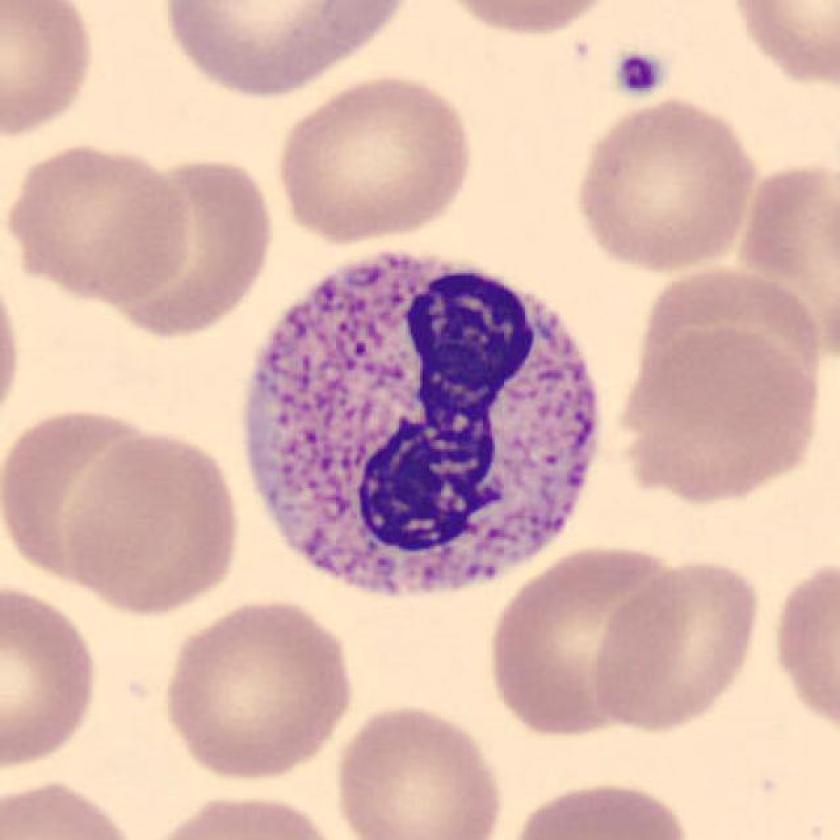neutrophil: (245, 253, 597, 592)
